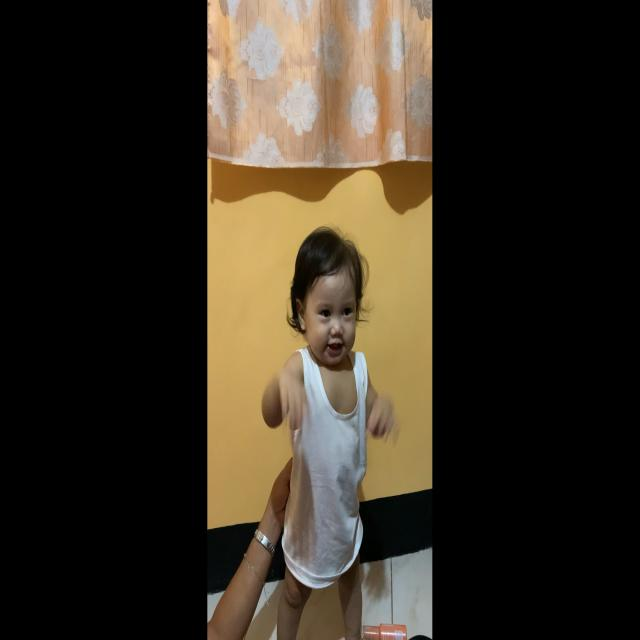child: (260, 223, 401, 640)
